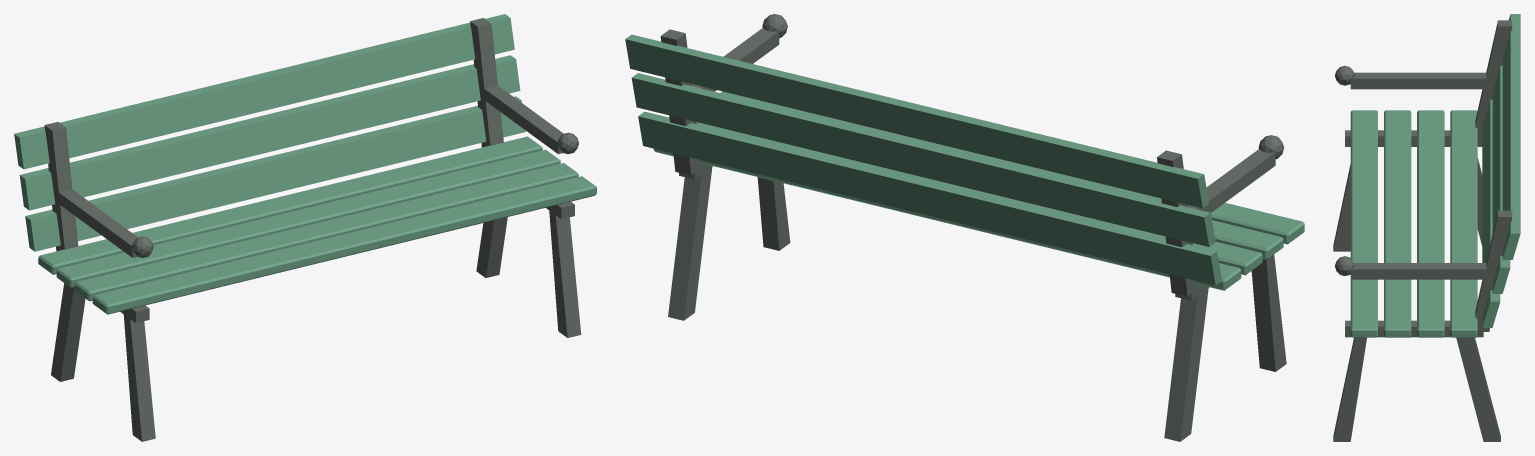
File: bench.glb
The picture shows the model from 3 angles, left to right: view 1: azimuth 30°, elevation 25°; view 2: azimuth 150°, elevation 25°; view 3: azimuth 270°, elevation 25°; orthographic projection. The views are drawn at different scales.
Parts seen in each view (by area): view 1: bench_bench_g, bench_iron; view 2: bench_bench_g, bench_iron; view 3: bench_bench_g, bench_iron.
Boxes of the visible parts, left/top/right/bottom form: bench_bench_g: left=14, top=14, right=596, bottom=314; bench_iron: left=44, top=18, right=581, bottom=441; bench_bench_g: left=625, top=34, right=1304, bottom=290; bench_iron: left=660, top=14, right=1286, bottom=441; bench_bench_g: left=1350, top=14, right=1520, bottom=337; bench_iron: left=1333, top=20, right=1512, bottom=441.
Bounding box in the file's own units: 1.8 × 0.86 × 0.6484.
